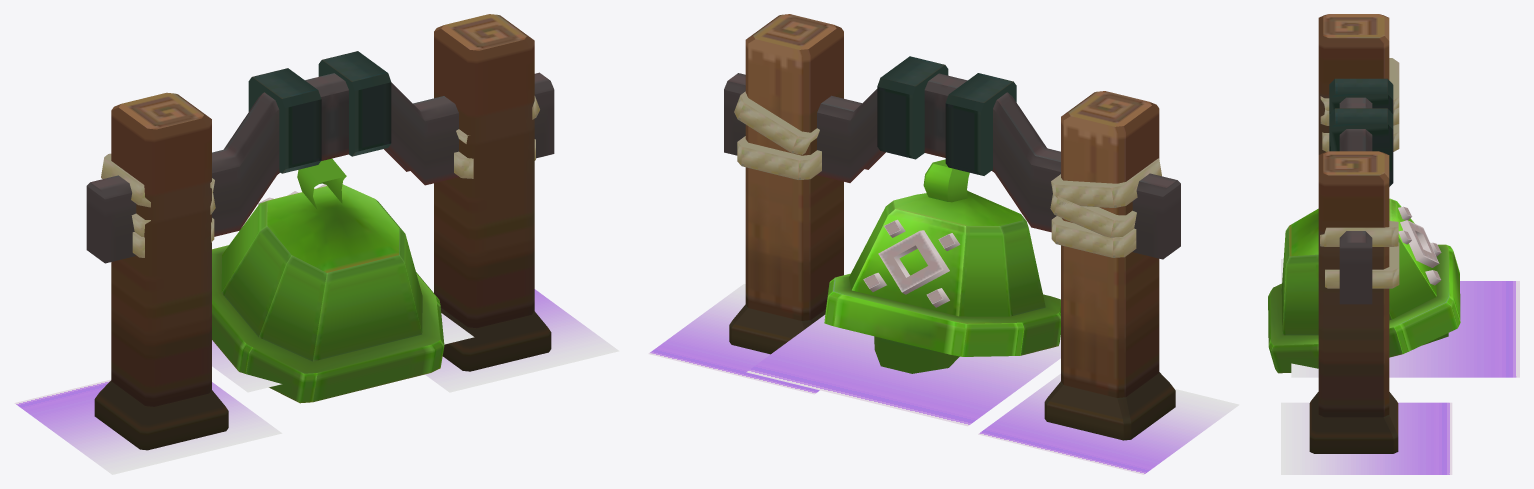
Rendered from [gimmick]bell_green.fbx.
The picture shows the model from 3 angles, left to right: view 1: azimuth 30°, elevation 25°; view 2: azimuth 150°, elevation 25°; view 3: azimuth 270°, elevation 25°; orthographic projection. The views are drawn at different scales.
Parts seen in each view (by area): view 1: [gimmick]bell_green, bell_green, shadow2, shadow1, shadow; view 2: [gimmick]bell_green, bell_green, shadow, shadow2, shadow1; view 3: [gimmick]bell_green, bell_green, shadow, shadow1.
Part boxes in pixels (left/top/right/bottom): [gimmick]bell_green: left=86, top=14, right=554, bottom=450; bell_green: left=212, top=158, right=444, bottom=403; shadow2: left=14, top=379, right=282, bottom=474; shadow1: left=425, top=289, right=619, bottom=392; shadow: left=212, top=313, right=474, bottom=392; [gimmick]bell_green: left=724, top=14, right=1180, bottom=440; bell_green: left=824, top=159, right=1060, bottom=373; shadow: left=746, top=315, right=1060, bottom=426; shadow2: left=978, top=373, right=1239, bottom=474; shadow1: left=648, top=284, right=819, bottom=394; [gimmick]bell_green: left=1309, top=14, right=1399, bottom=453; bell_green: left=1268, top=198, right=1460, bottom=373; shadow: left=1291, top=281, right=1519, bottom=377; shadow1: left=1281, top=402, right=1452, bottom=474.
Size of the model in its own units: 2.68 by 1.59 by 1.32.
